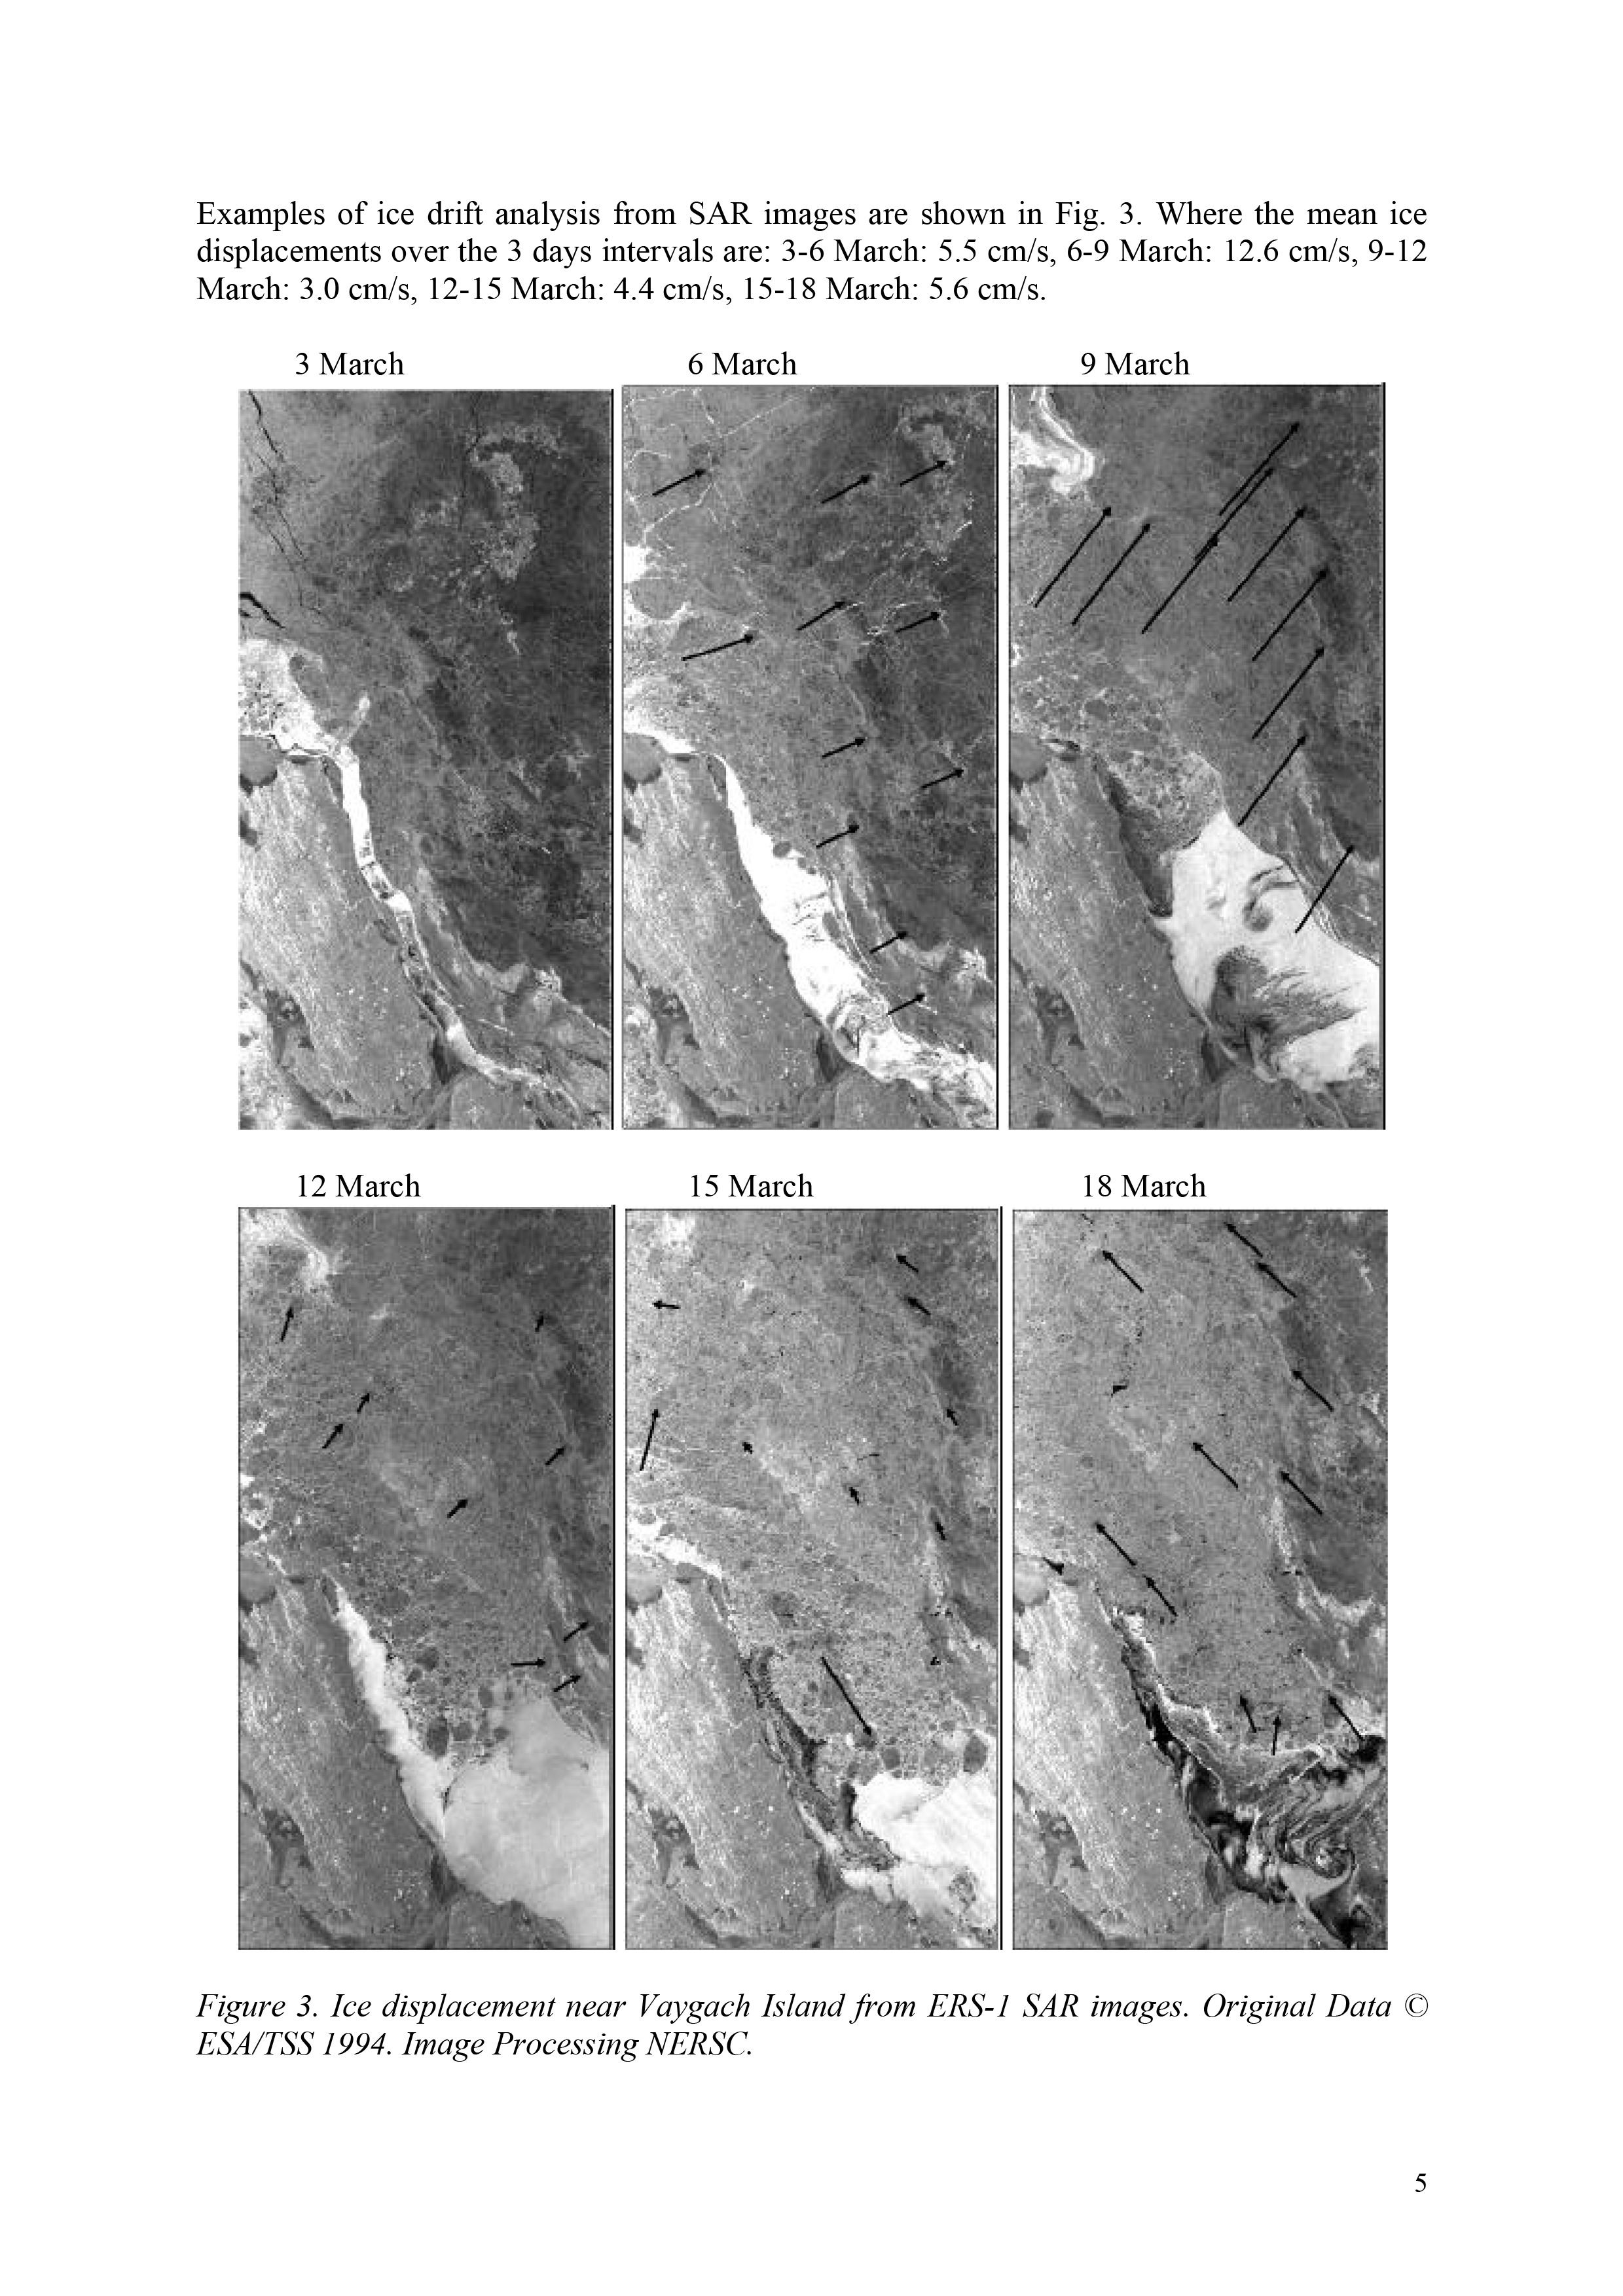caption: (195, 1977, 1439, 2085), (260, 1148, 448, 1218), (262, 321, 444, 391), (669, 1148, 840, 1215), (662, 319, 813, 384), (1061, 319, 1201, 381), (1068, 1162, 1231, 1211)
figure: (242, 379, 1400, 1127), (234, 1229, 1393, 1961)
text: (176, 172, 1410, 319)
